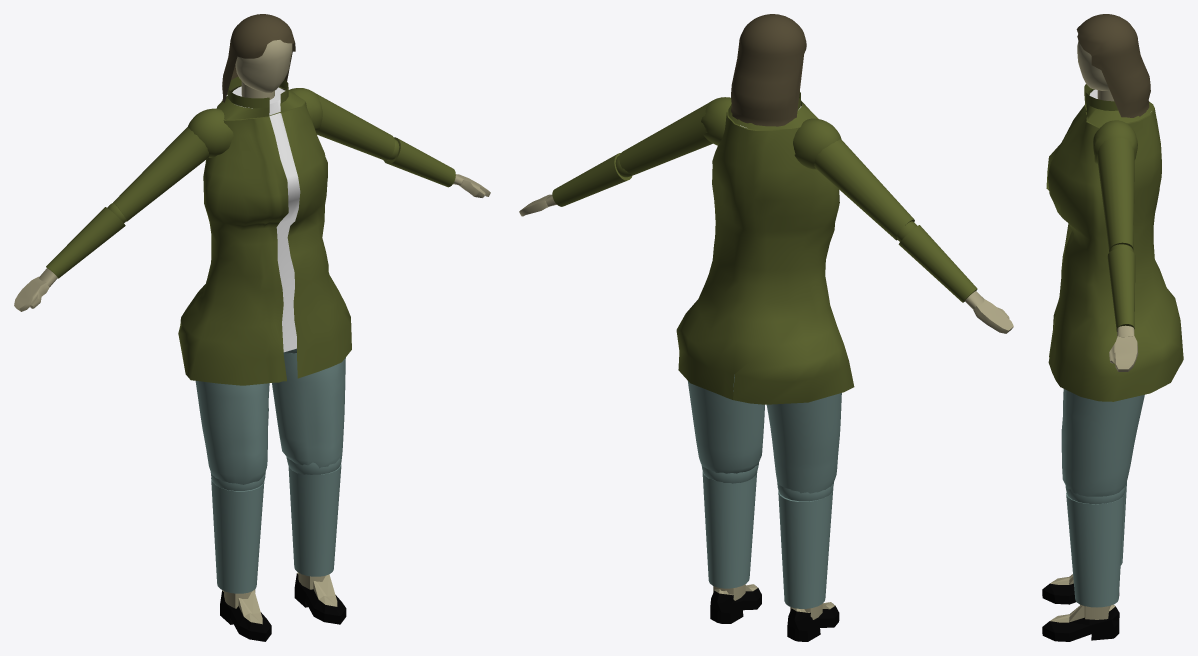
The model's file is character animation ready model.fbx.
The picture shows the model from 3 angles, left to right: view 1: azimuth 30°, elevation 25°; view 2: azimuth 150°, elevation 25°; view 3: azimuth 270°, elevation 25°; orthographic projection. The views are drawn at different scales.
Visible parts, largest first — view 1: pCylinder1, pCylinder3, pCylinder4, pCylinder22, pCylinder21, pCylinder24, pCylinder5, pCylinder23, pSphere14, pCylinder26, pSphere7, pCube5 (+6 smaller); view 2: pCylinder1, pSphere14, pCylinder4, pCylinder22, pCylinder3, pCylinder21, pCylinder24, pCylinder23, pCylinder26, pCylinder25, pSphere3, pCube5 (+3 smaller); view 3: pCylinder1, pCylinder3, pCylinder21, pSphere14, pCylinder23, pCube5, pCylinder25, pSphere10, pCube3, pCube8, pSphere7, pCylinder7 (+3 smaller).
Boxes of the visible parts, bbox=[...] form: pCylinder1: bbox=[178, 101, 351, 385]; pCylinder3: bbox=[272, 353, 345, 468]; pCylinder4: bbox=[195, 381, 269, 484]; pCylinder22: bbox=[211, 477, 264, 593]; pCylinder21: bbox=[288, 463, 341, 576]; pCylinder24: bbox=[113, 127, 209, 221]; pCylinder5: bbox=[269, 113, 300, 352]; pCylinder23: bbox=[315, 93, 394, 160]; pSphere14: bbox=[222, 14, 295, 102]; pCylinder26: bbox=[46, 207, 125, 278]; pSphere7: bbox=[235, 40, 292, 92]; pCube5: bbox=[294, 572, 346, 624]; pCylinder1: bbox=[676, 110, 854, 404]; pSphere14: bbox=[731, 14, 806, 126]; pCylinder4: bbox=[766, 393, 841, 493]; pCylinder22: bbox=[778, 488, 833, 608]; pCylinder3: bbox=[688, 374, 764, 473]; pCylinder21: bbox=[702, 471, 757, 588]; pCylinder24: bbox=[814, 139, 914, 240]; pCylinder23: bbox=[619, 102, 712, 175]; pCylinder26: bbox=[898, 225, 977, 302]; pCylinder25: bbox=[552, 153, 632, 206]; pSphere3: bbox=[793, 118, 841, 169]; pCube5: bbox=[710, 584, 761, 623]; pCylinder1: bbox=[1046, 101, 1183, 401]; pCylinder3: bbox=[1061, 390, 1144, 496]; pCylinder21: bbox=[1066, 493, 1124, 607]; pSphere14: bbox=[1076, 14, 1150, 117]; pCylinder23: bbox=[1097, 137, 1134, 251]; pCube5: bbox=[1042, 604, 1119, 641]; pCylinder25: bbox=[1107, 248, 1135, 331]; pSphere10: bbox=[1093, 120, 1137, 164]; pCube3: bbox=[1109, 336, 1138, 371]; pCube8: bbox=[1042, 574, 1119, 604]; pSphere7: bbox=[1077, 41, 1109, 90]; pCylinder7: bbox=[1084, 89, 1153, 127].
Size of the model in its own units: 18.67 by 22.46 by 4.84.
